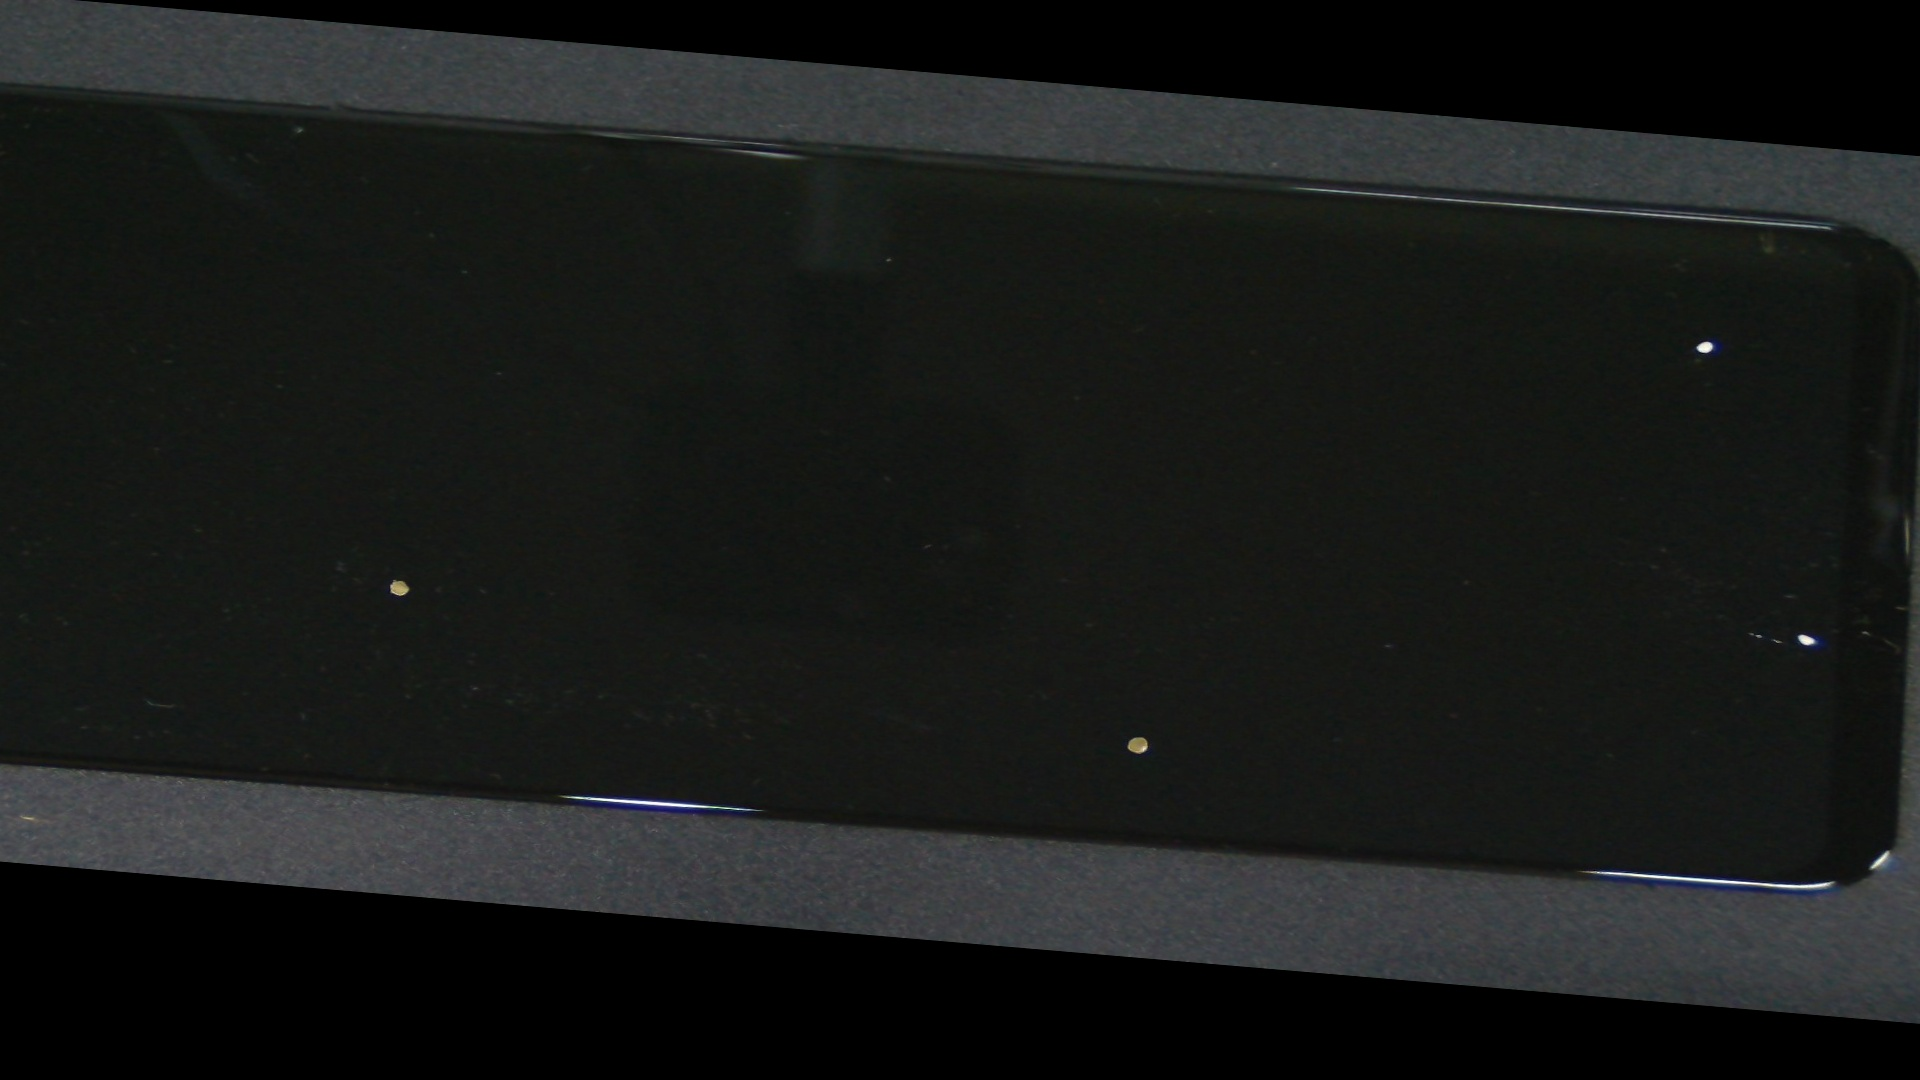oil: (401, 353, 1870, 1015), (742, 303, 1920, 893), (30, 276, 754, 881), (717, 157, 1920, 468), (0, 274, 124, 868)
